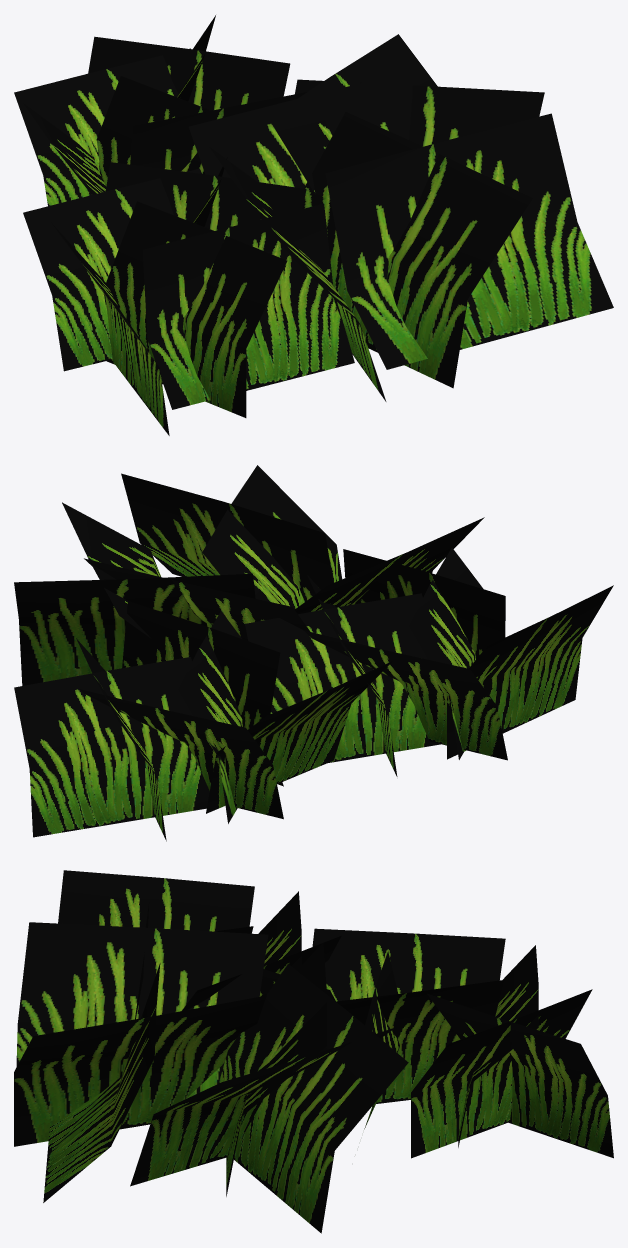
Rendered from sm_straw_03.FBX.
3 renders of one model, top to bottom at view 1: azimuth 30°, elevation 25°; view 2: azimuth 150°, elevation 25°; view 3: azimuth 270°, elevation 25°, orthographic. The views are drawn at different scales.
Visible parts, largest first — view 1: sm_straw_03; view 2: sm_straw_03; view 3: sm_straw_03.
Boxes of the visible parts, x1=… form: sm_straw_03: x1=14, y1=15, x2=613, y2=435; sm_straw_03: x1=14, y1=465, x2=613, y2=841; sm_straw_03: x1=14, y1=870, x2=613, y2=1233.
Size of the model in its own units: 74.4 by 79.83 by 24.99.
